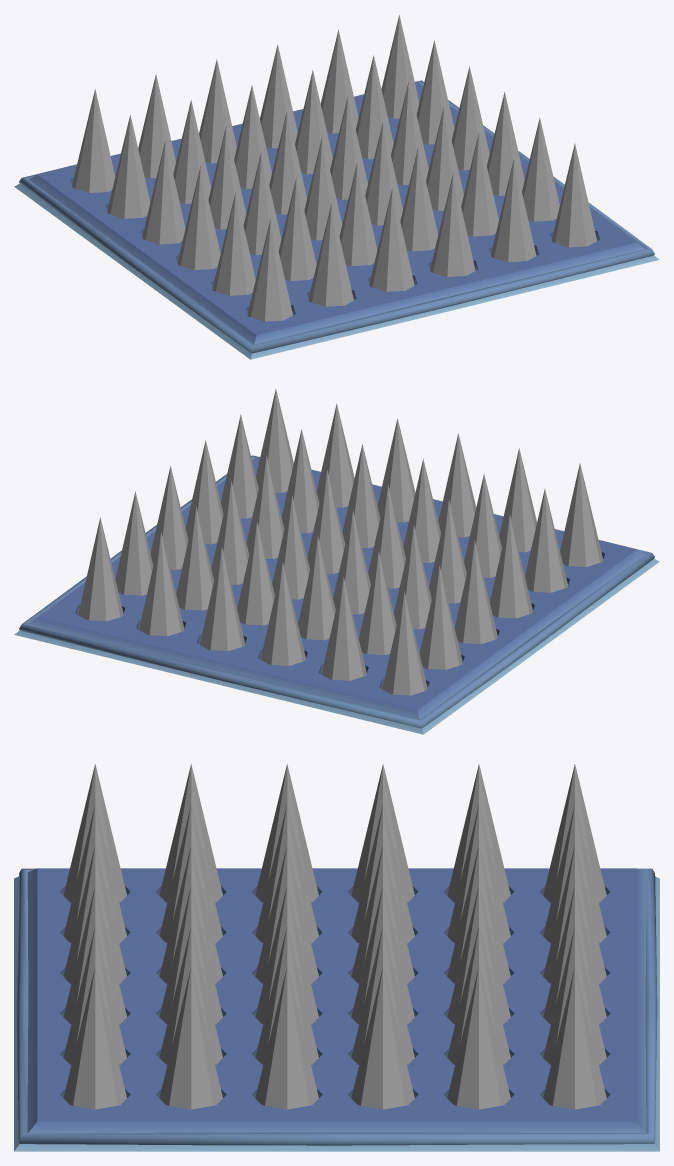
Rendered from Spikes_2m.fbx.
3 views of the same model, one above another, from view 1: azimuth 30°, elevation 25°; view 2: azimuth 150°, elevation 25°; view 3: azimuth 270°, elevation 25° (orthographic). The views are drawn at different scales.
Visible parts, largest first — view 1: Spikes_2m; view 2: Spikes_2m; view 3: Spikes_2m.
Part boxes in pixels (left/top/right/bottom): Spikes_2m: left=14, top=15, right=659, bottom=359; Spikes_2m: left=14, top=389, right=659, bottom=734; Spikes_2m: left=14, top=764, right=659, bottom=1151.
Size of the model in its own units: 200 by 50.76 by 200.
